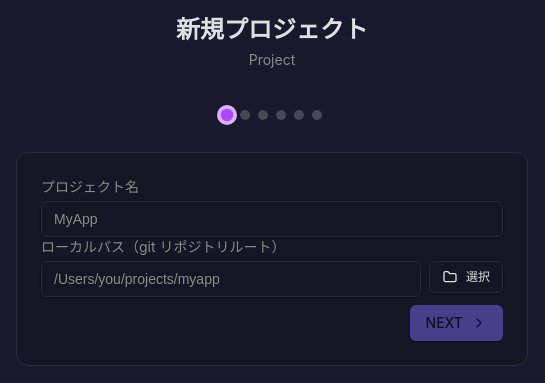
Test case: SetupScreen — ウィザードモード › Step0: 名前とパスを入力すると NEXT ボタンが有効になる
Type "TestApp" into the field with placeholder "MyApp".
click(272, 219); type("TestApp")  # box [41,201,503,237]
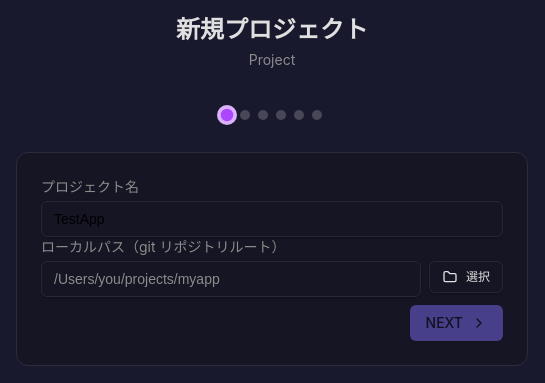
Type "/test/path" into the field with placeholder "/Users/you/projects/myapp".
click(231, 279); type("/test/path")  # box [41,261,421,297]
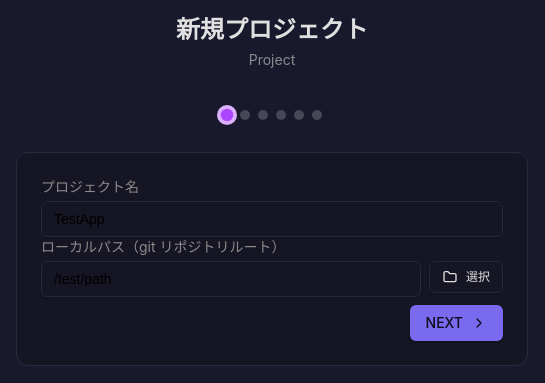
Result: the button "NEXT" is enabled at [410,305,503,341]
